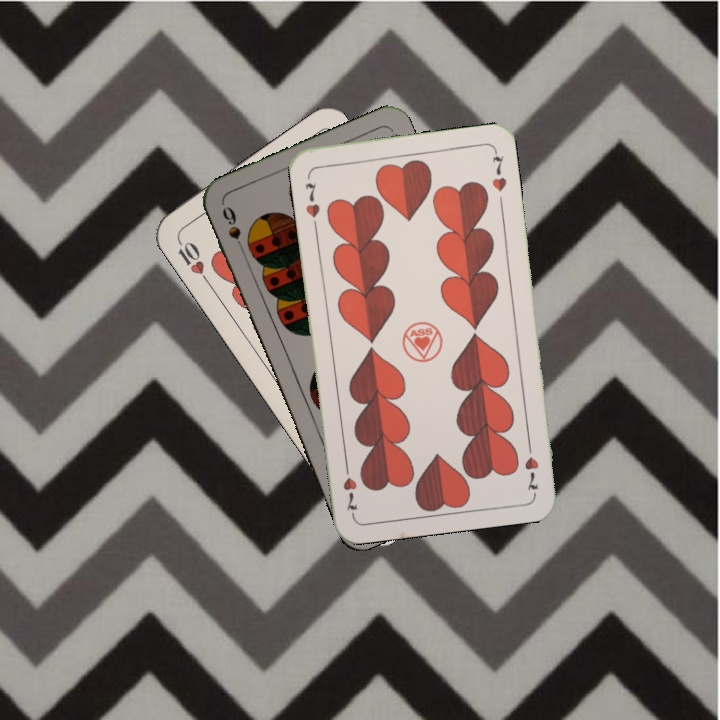H10: (173, 234, 212, 286)
H7: (520, 436, 541, 495), (301, 178, 323, 220)
S9: (218, 202, 248, 258)
